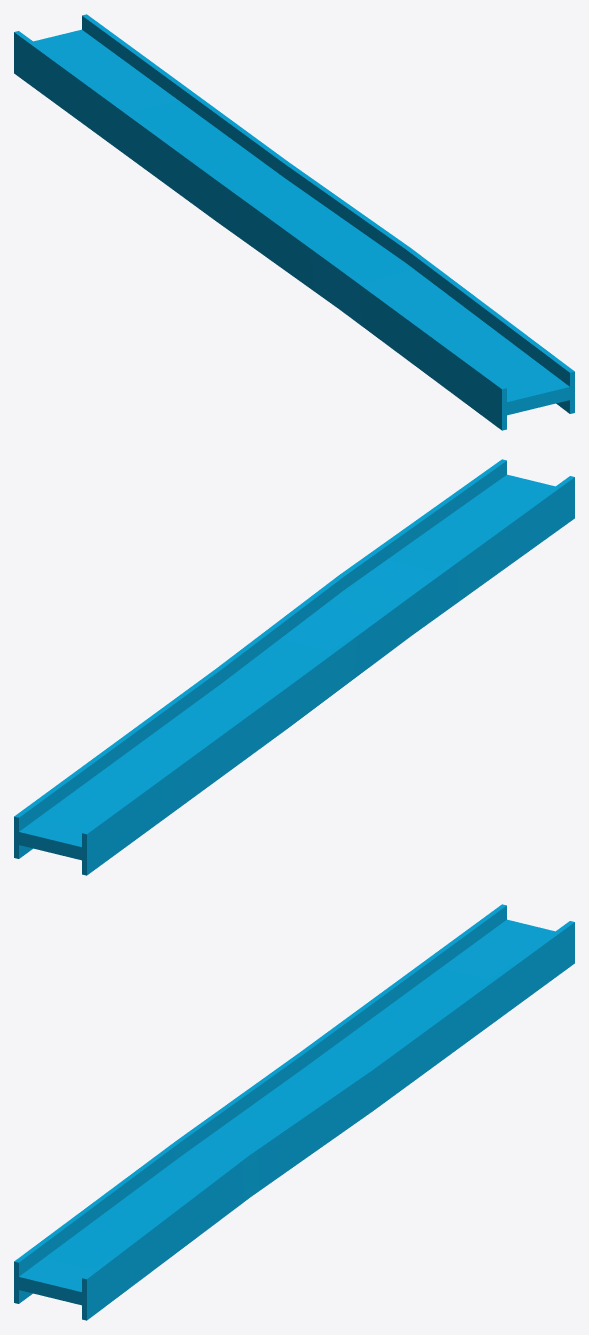
Rendered from Twisted_Metal_06.fbx.
3 renders of one model, top to bottom at view 1: azimuth 30°, elevation 25°; view 2: azimuth 150°, elevation 25°; view 3: azimuth 330°, elevation 25°, orthographic.
Visible parts, largest first — view 1: Twisted_Metal_06; view 2: Twisted_Metal_06; view 3: Twisted_Metal_06.
Boxes of the visible parts, x1,y1,x2,y2 form: Twisted_Metal_06: (14, 14, 574, 430); Twisted_Metal_06: (14, 459, 574, 875); Twisted_Metal_06: (14, 904, 574, 1320).
Size of the model in its own units: 52.72 by 30.87 by 600.
